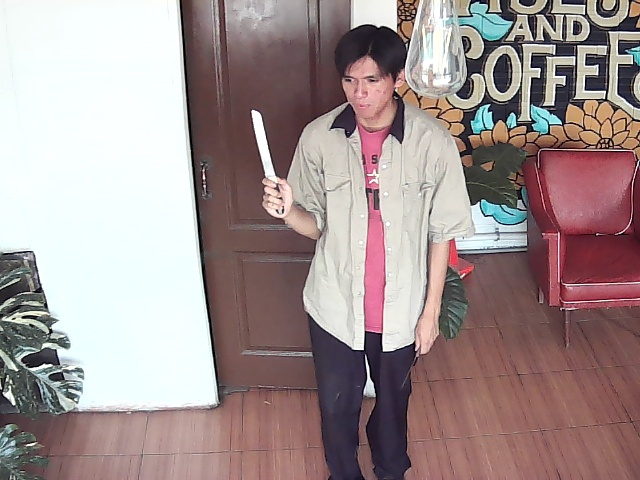cuchillo: (245, 104, 291, 214)
